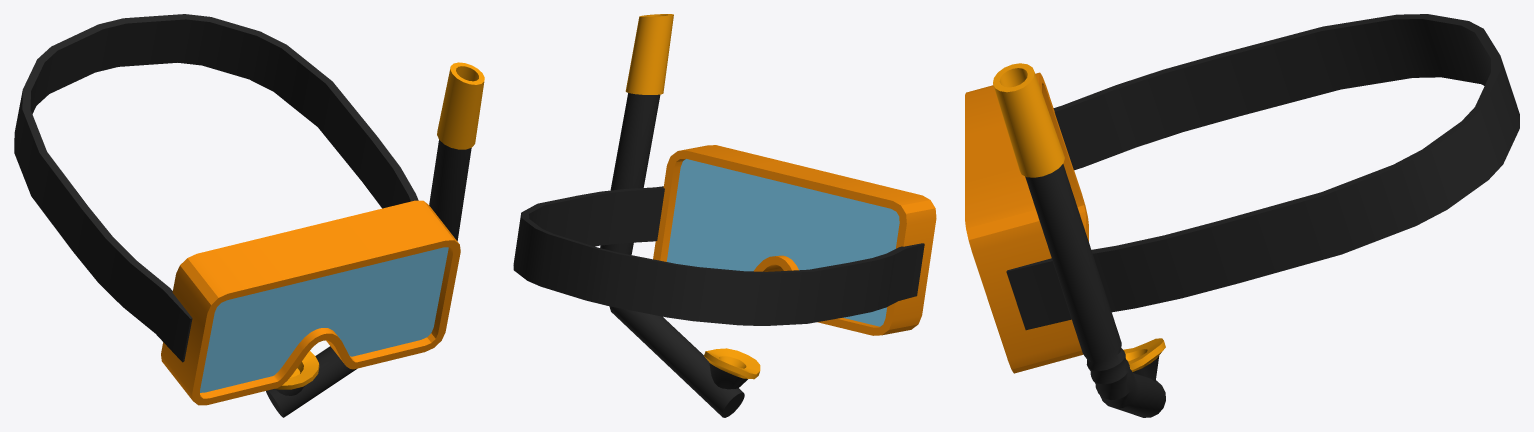
The model's file is diving_mask.gltf.
3 renders of one model, left to right at view 1: azimuth 30°, elevation 25°; view 2: azimuth 150°, elevation 25°; view 3: azimuth 270°, elevation 25°, orthographic. The views are drawn at different scales.
Parts seen in each view (by area): view 1: Plane.308; view 2: Plane.308; view 3: Plane.308.
Part boxes in pixels (x1,y1,x2,y2): Plane.308: [14, 14, 484, 417]; Plane.308: [513, 14, 936, 417]; Plane.308: [965, 14, 1519, 417].
Size of the model in its own units: 2.02 by 2.15 by 2.56.
Materials: 1 (1 with a texture image).
